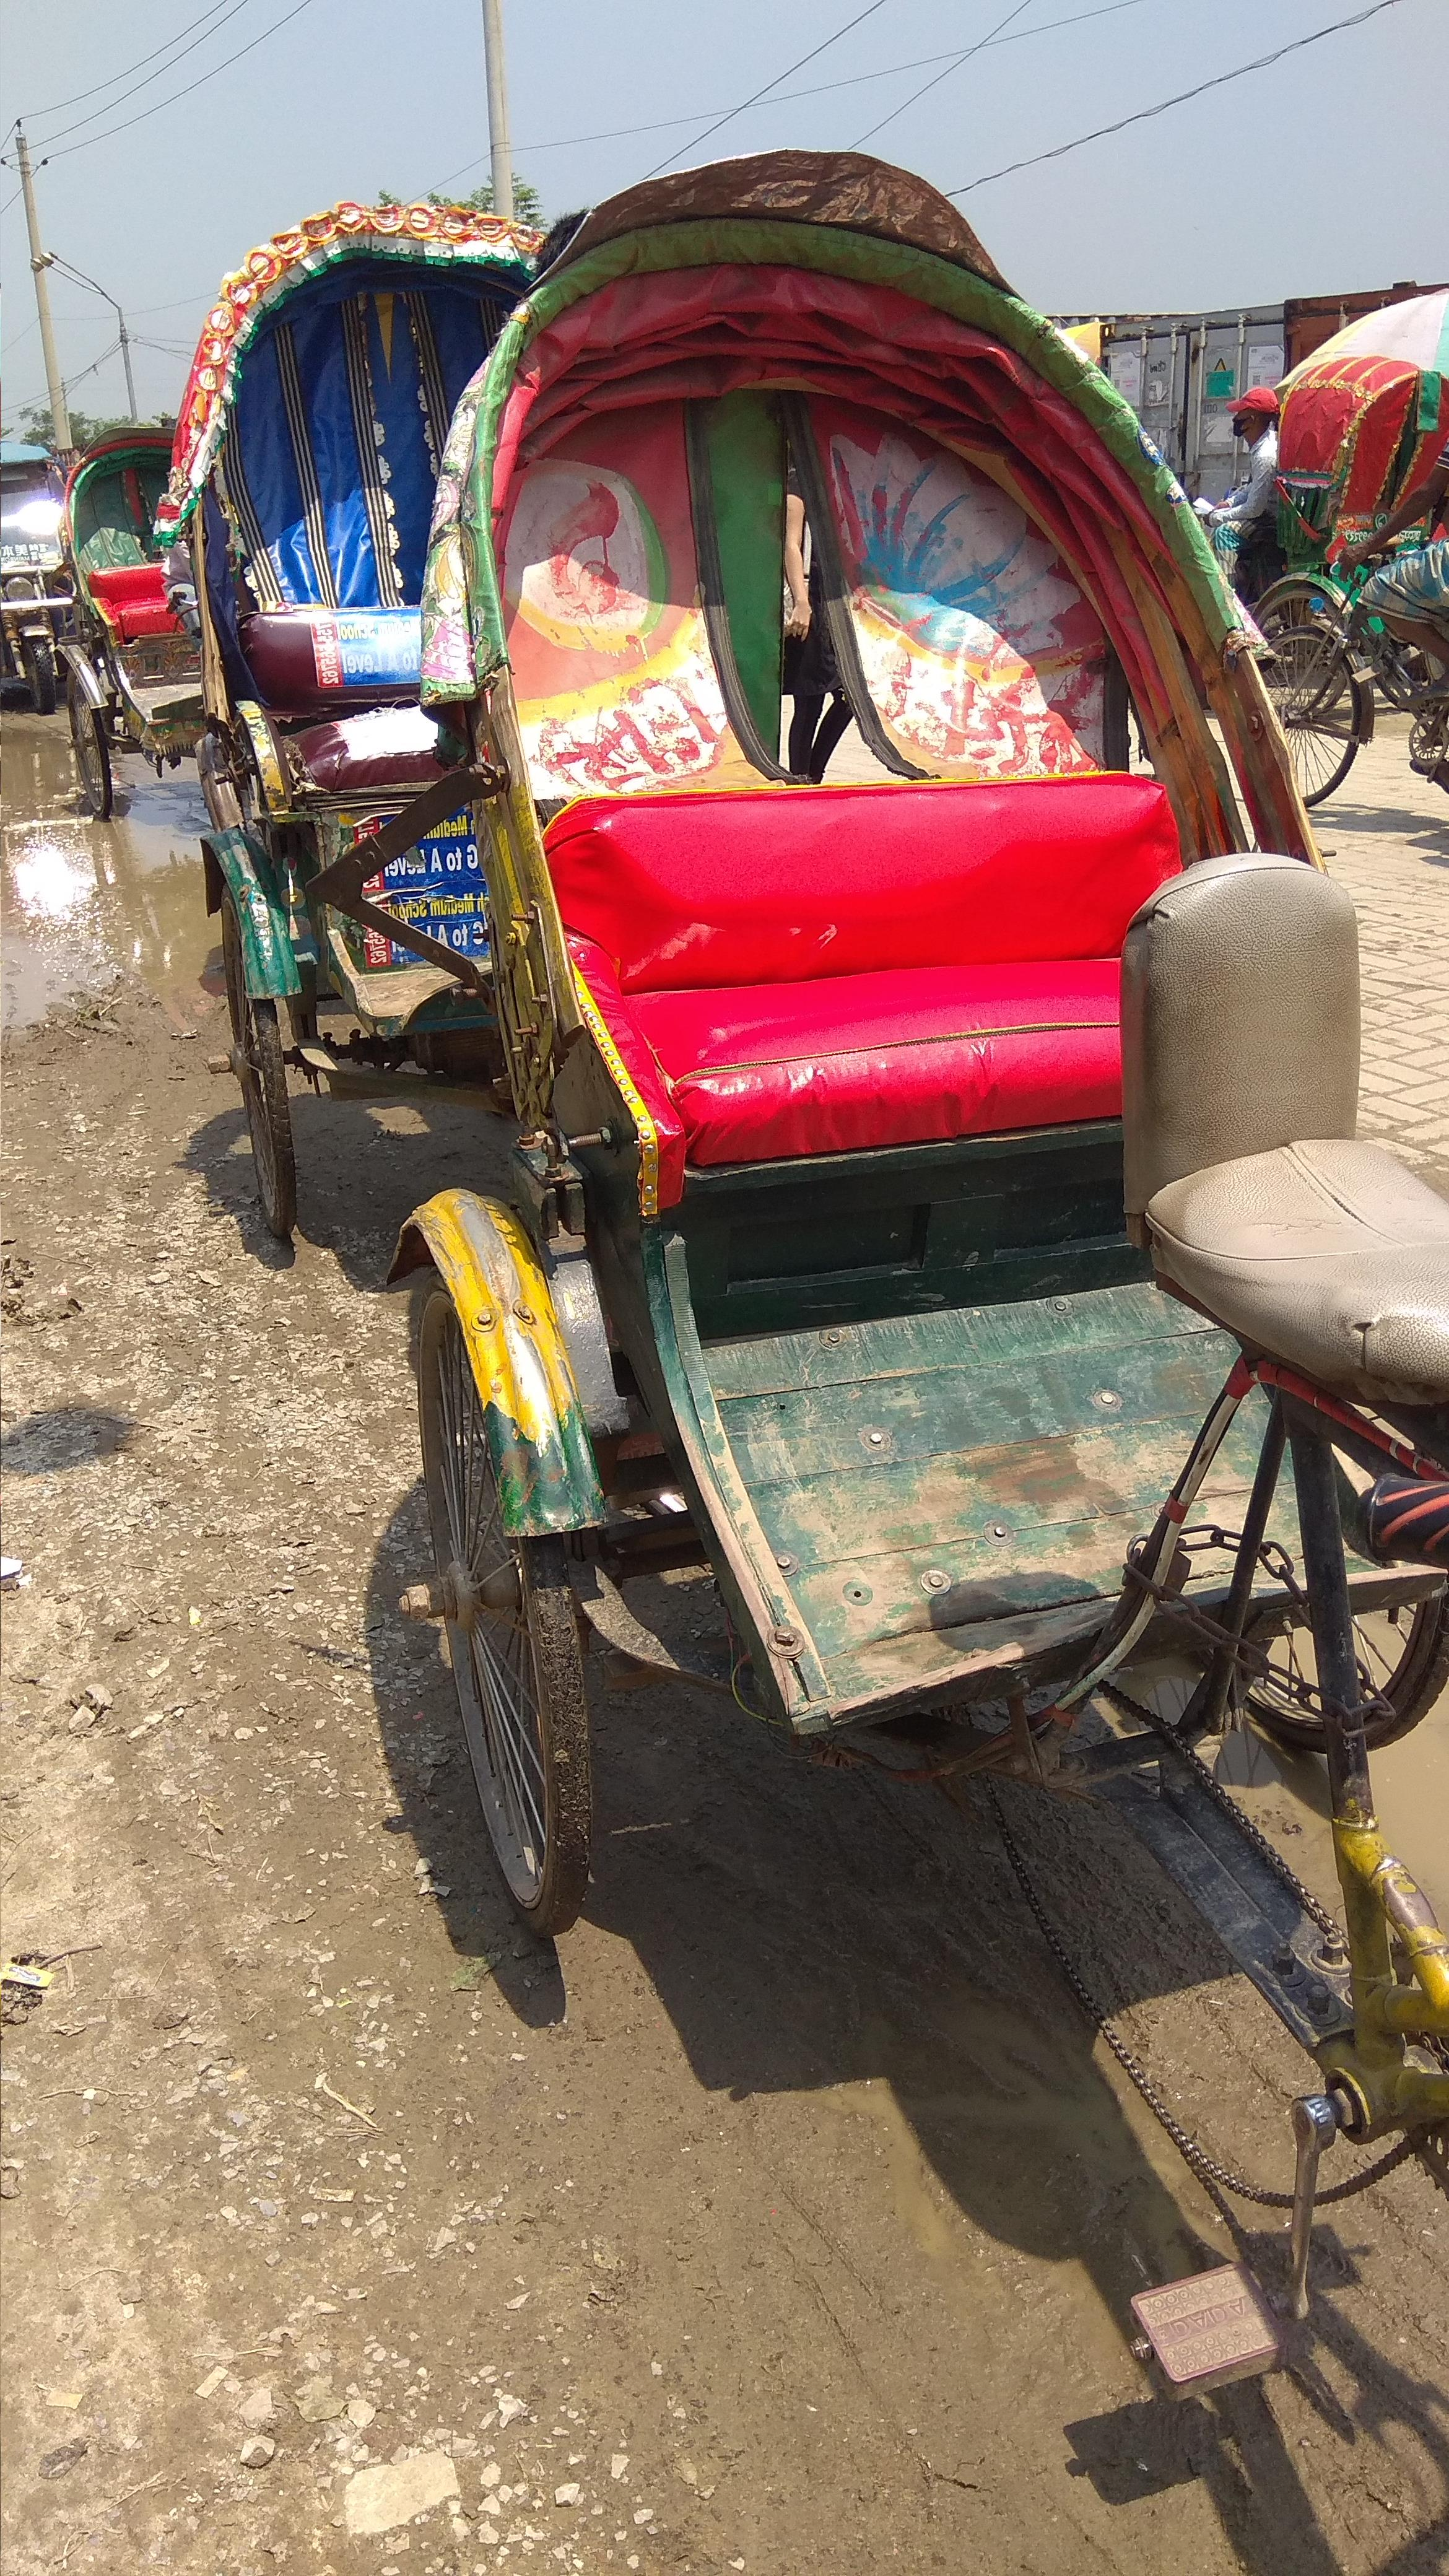Rickshaw: (428, 166, 1444, 2266), (133, 186, 577, 1079), (19, 391, 299, 784), (1233, 318, 1447, 777)
